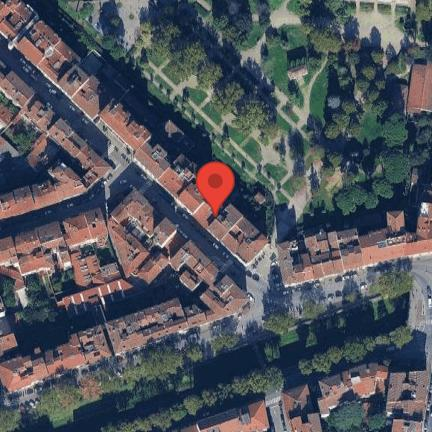area_open: (53, 14, 269, 228), (58, 281, 182, 329), (246, 215, 302, 295), (2, 145, 81, 188), (389, 282, 426, 368), (103, 174, 136, 218), (12, 316, 32, 344)
built: (0, 0, 267, 266), (1, 187, 253, 396), (0, 207, 124, 311), (277, 203, 431, 286), (0, 116, 111, 218), (321, 366, 428, 429), (0, 69, 56, 156), (170, 399, 272, 432), (278, 380, 322, 431), (57, 280, 134, 309), (402, 62, 432, 113), (22, 133, 53, 167), (285, 62, 309, 82), (0, 332, 19, 356), (0, 294, 6, 321), (255, 190, 265, 205)
vegetation_high: (138, 16, 288, 145), (0, 344, 205, 432), (102, 363, 285, 432), (324, 100, 430, 213), (300, 331, 417, 374), (326, 398, 390, 432), (25, 272, 58, 328)
vegetation_low: (56, 0, 373, 230), (159, 0, 432, 127), (206, 273, 412, 367), (10, 122, 35, 147), (0, 280, 17, 312), (49, 267, 69, 294)
